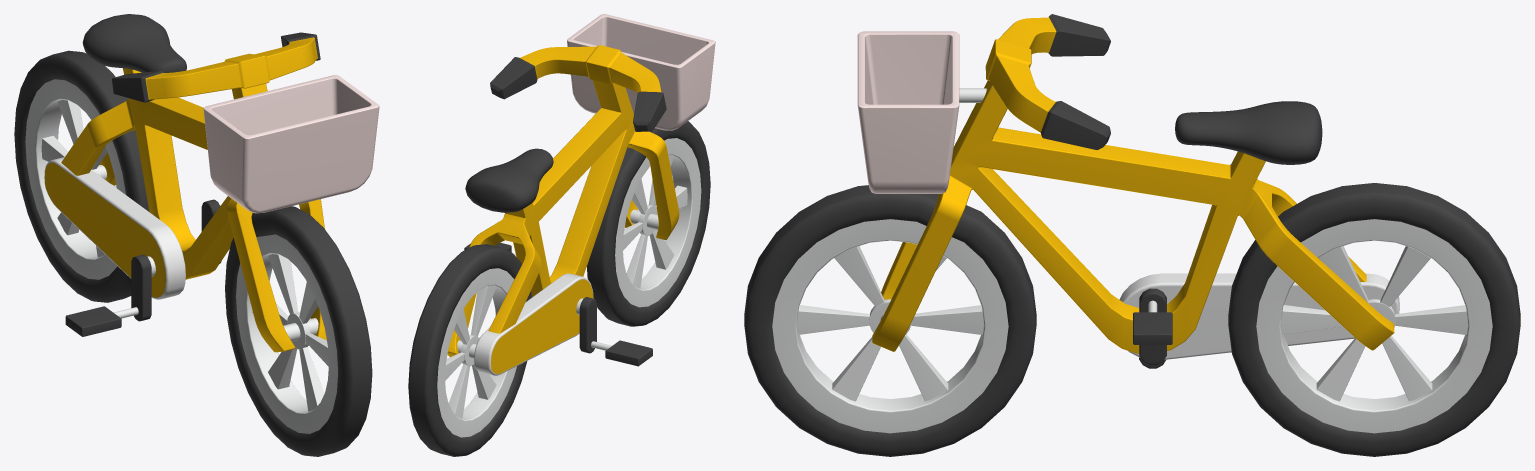
The model's file is City_6_Bike_1.glb.
3 renders of one model, left to right at view 1: azimuth 30°, elevation 25°; view 2: azimuth 150°, elevation 25°; view 3: azimuth 270°, elevation 25°, orthographic. The views are drawn at different scales.
Parts seen in each view (by area): view 1: City_6_Bike_1; view 2: City_6_Bike_1; view 3: City_6_Bike_1.
Part boxes in pixels (x1,y1,x2,y2): City_6_Bike_1: (14, 14, 379, 456); City_6_Bike_1: (408, 14, 715, 456); City_6_Bike_1: (744, 14, 1520, 456).
Bounding box in the file's own units: 0.8624 × 1.41 × 2.44.
Materials: 1 (1 with a texture image).
